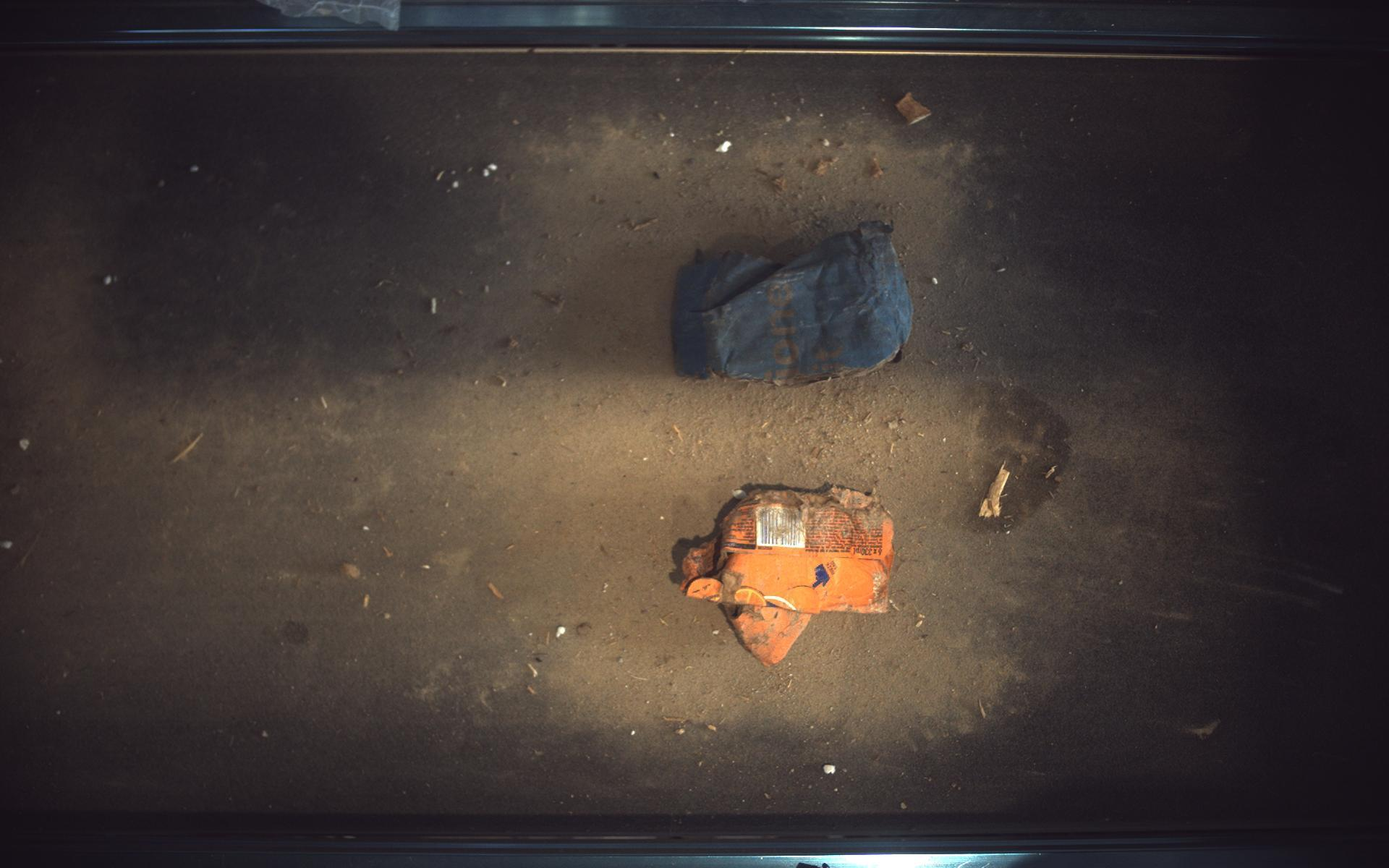general_w: (674, 221, 914, 384), (683, 487, 895, 666)
